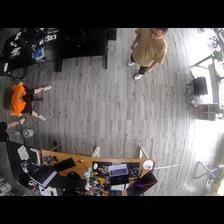normal: (126, 27, 169, 80), (8, 80, 51, 121)
